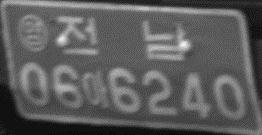0: (212, 73, 247, 120), (20, 61, 50, 106)
2: (142, 69, 179, 117)
4: (181, 72, 210, 116)
6: (109, 68, 141, 114), (51, 65, 82, 108)
아: (83, 70, 108, 109)
영: (16, 13, 51, 53)
전남_D: (55, 15, 187, 62)
